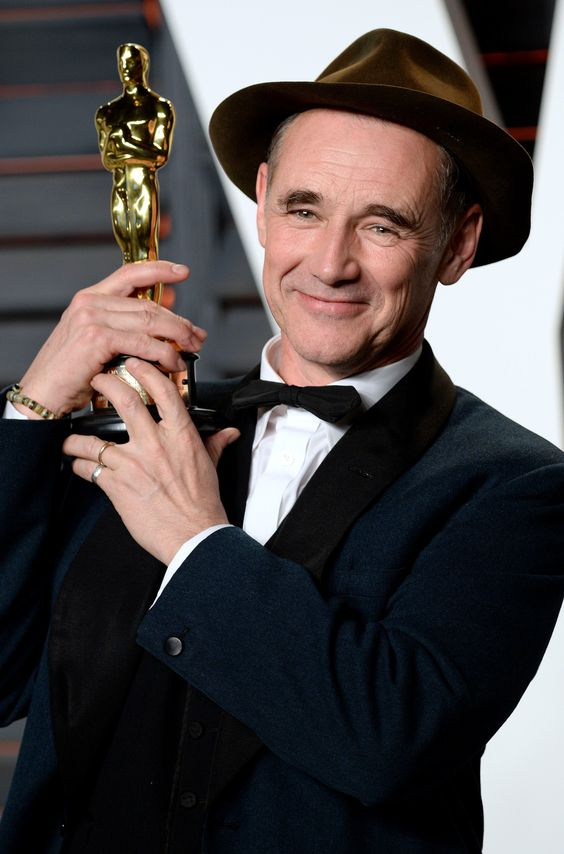hand: (63, 364, 234, 535)
